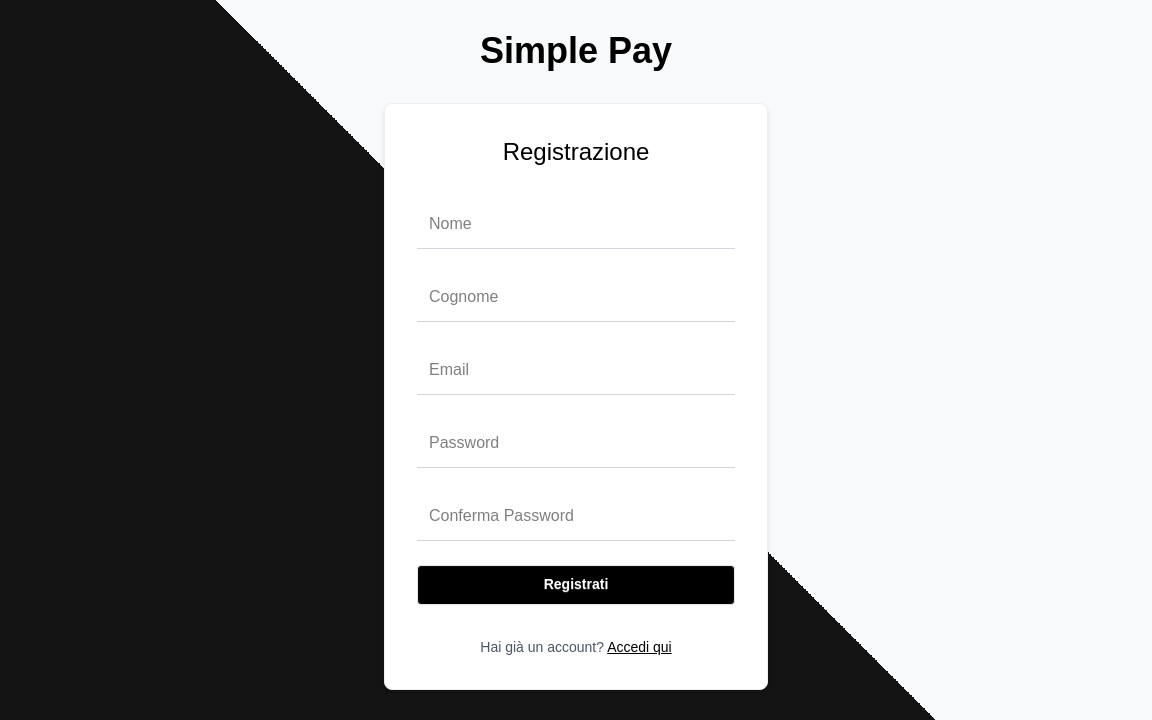
Test: Register Page › should show alert when passwords do not match
The width and height of the screenshot is (1152, 720).
Step 1. Type "Mario" into the field with placeholder "Nome" → {"x": 576, "y": 225}, box [417,200,735,249]
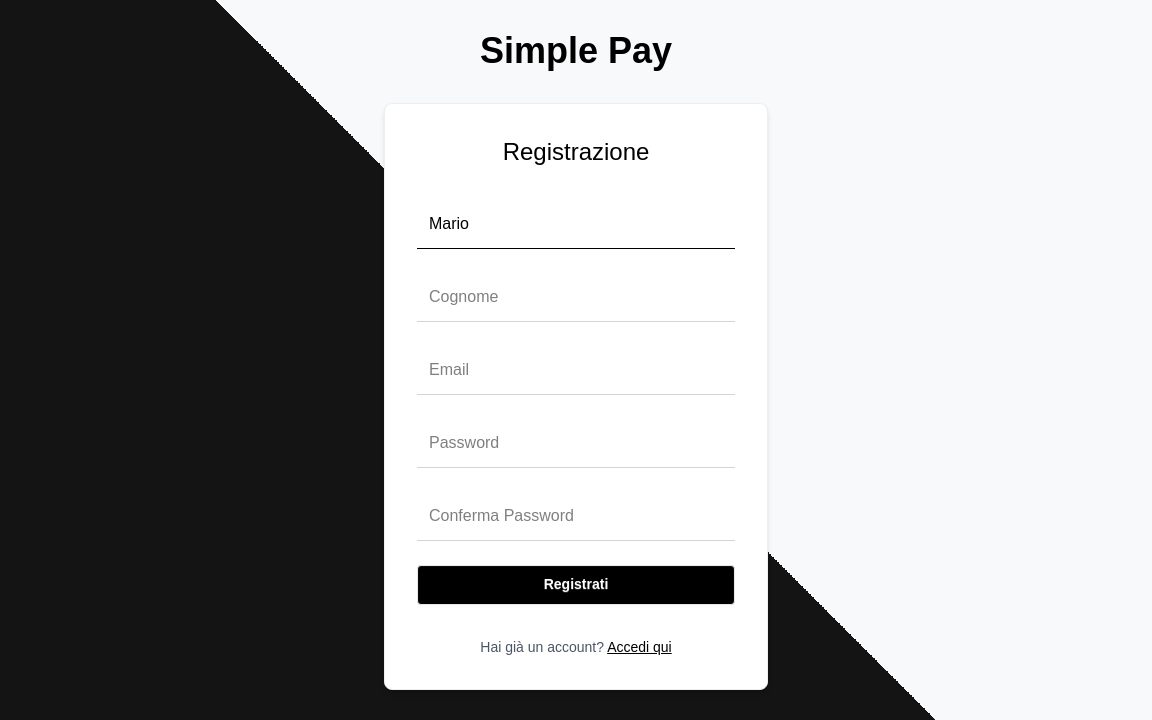
Step 2. Type "Rossi" into the field with placeholder "Cognome" → {"x": 576, "y": 298}, box [417,273,735,322]
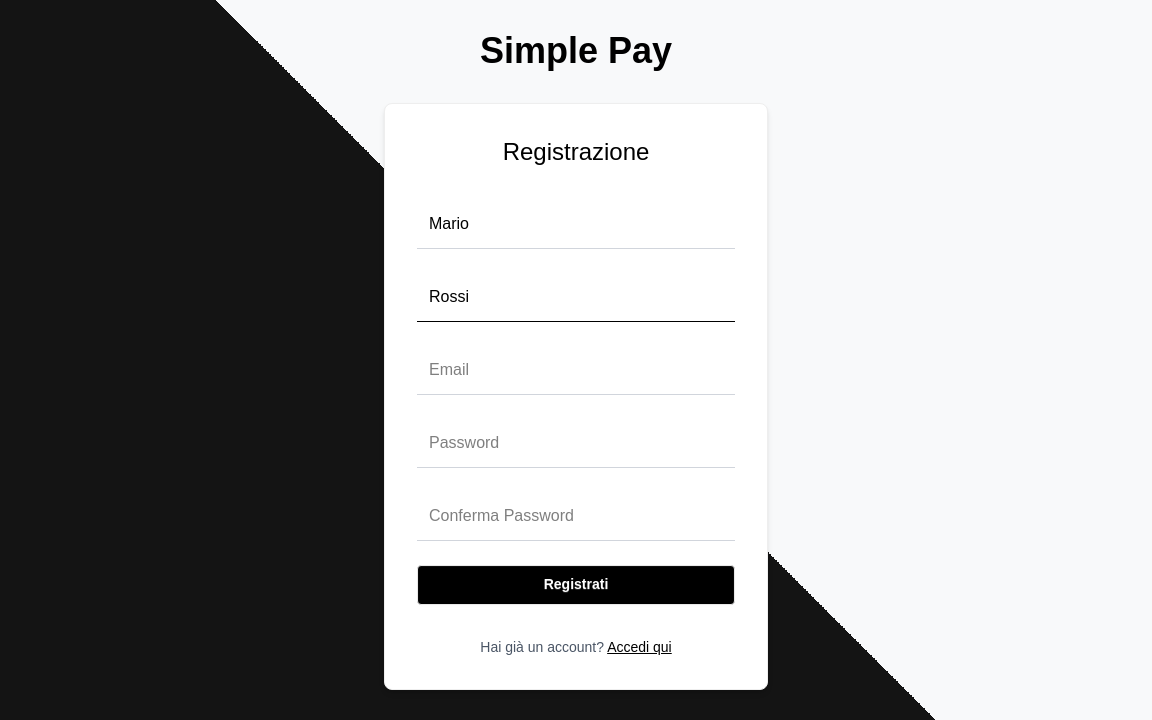
Step 3. Type "mario@example.com" into the field with placeholder "Email" → {"x": 576, "y": 371}, box [417,346,735,395]
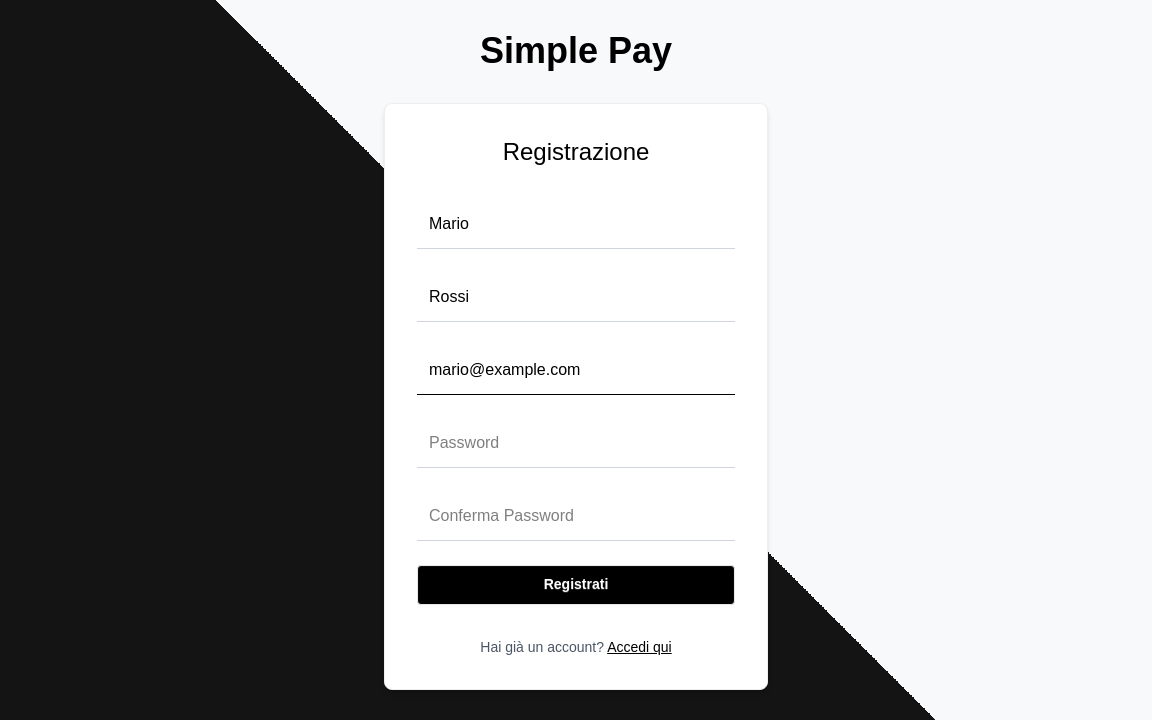
Step 4. Type "password123" into the password field with placeholder "Password" → {"x": 576, "y": 444}, box [417,419,735,468]
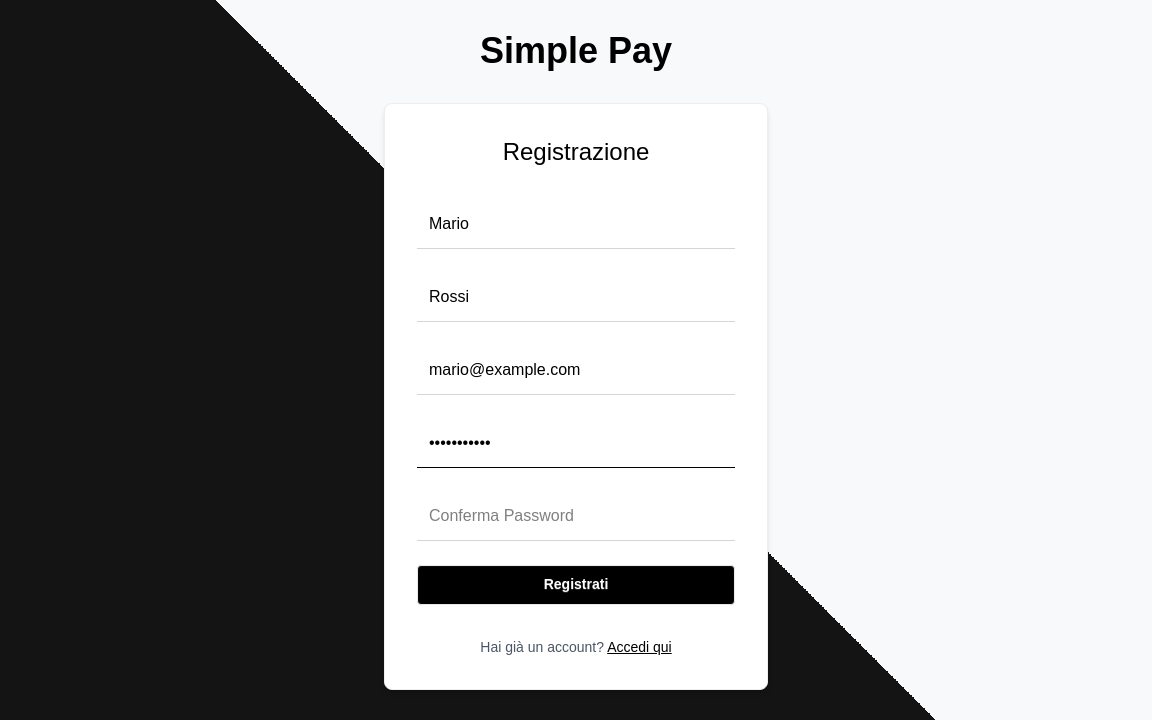
Step 5. Type "differentpassword" into the password field with placeholder "Conferma Password" → {"x": 576, "y": 517}, box [417,492,735,541]
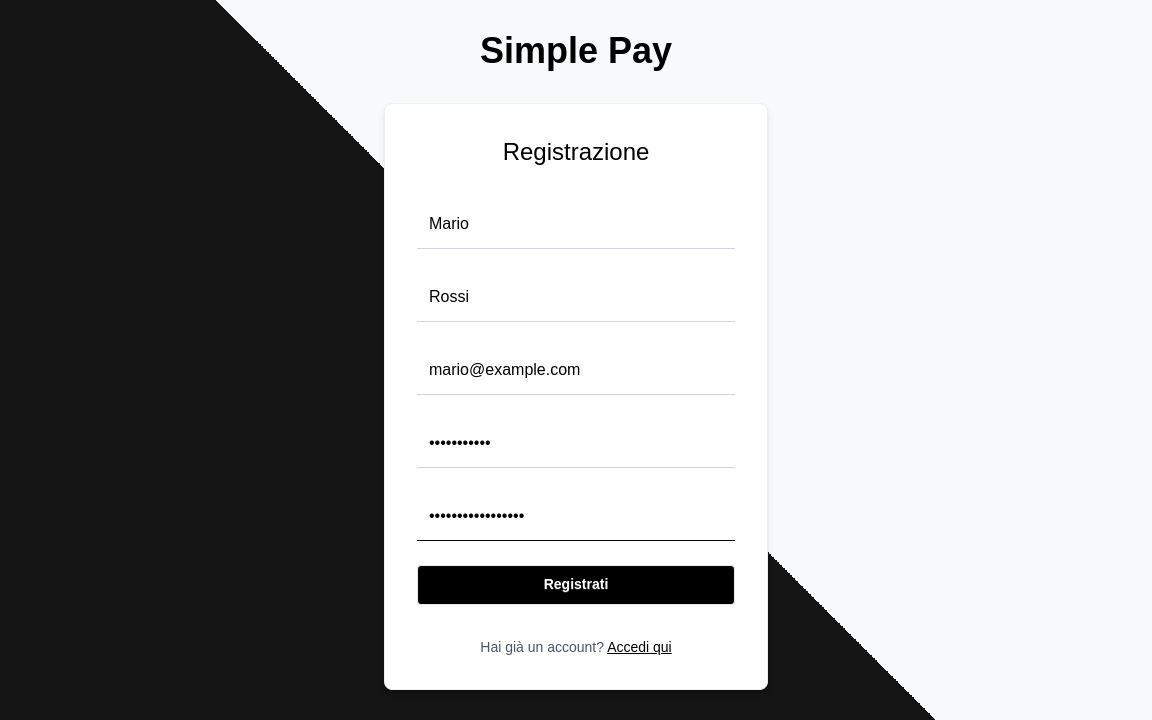
Step 6. Click the submit button → {"x": 576, "y": 585}, box [417,565,735,605]
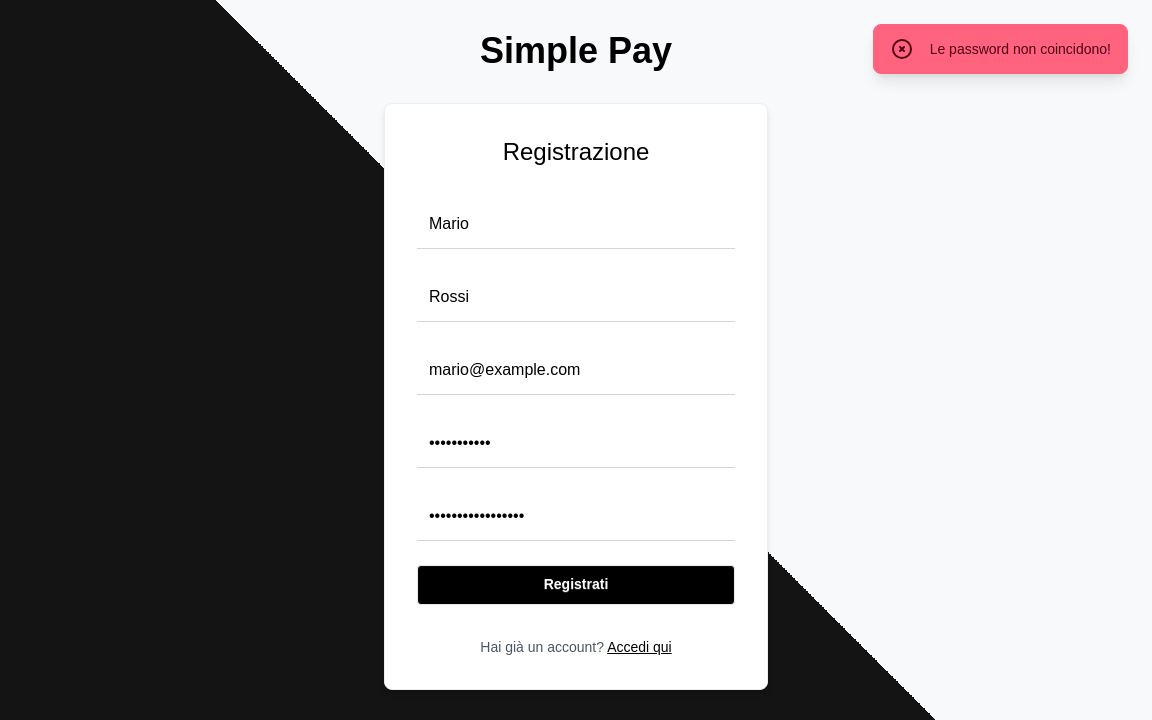
Check: the message "Le password non coincidono!" is shown, box [873,24,1128,74]
Check: the text with id "error-alert" shows "Le password non coincidono", box [930,41,1111,57]
